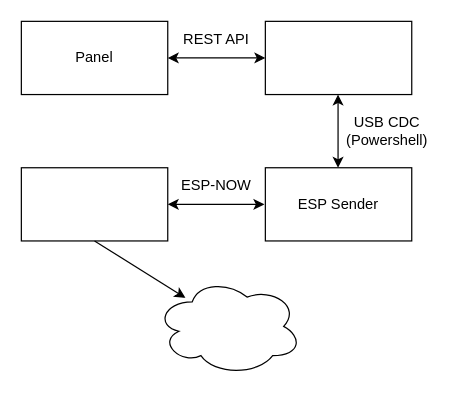
The diagram is 449 pixels wide and 397 high, and some of its shapes have lost their labels. Here are the shapes that lost their labels. From the top down, the centre of each, then its label:
At [338,57]: "Server".
At [94,204]: "ESP Receiver".
